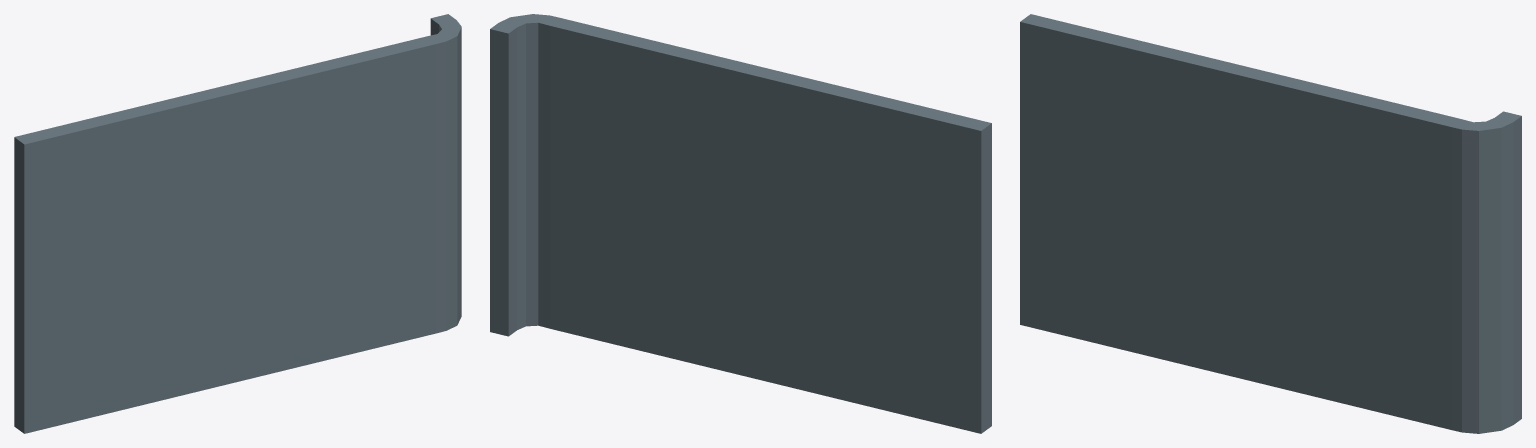
The model's file is Wall with one curve edge right.fbx.
3 renders of one model, left to right at view 1: azimuth 30°, elevation 25°; view 2: azimuth 150°, elevation 25°; view 3: azimuth 330°, elevation 25°, orthographic. The views are drawn at different scales.
Visible parts, largest first — view 1: pCube306; view 2: pCube306; view 3: pCube306.
Part boxes in pixels (x1,y1,x2,y2): pCube306: (14,14,461,433); pCube306: (490,14,991,433); pCube306: (1020,14,1521,433).
Size of the model in its own units: 227 by 139 by 24.18.
